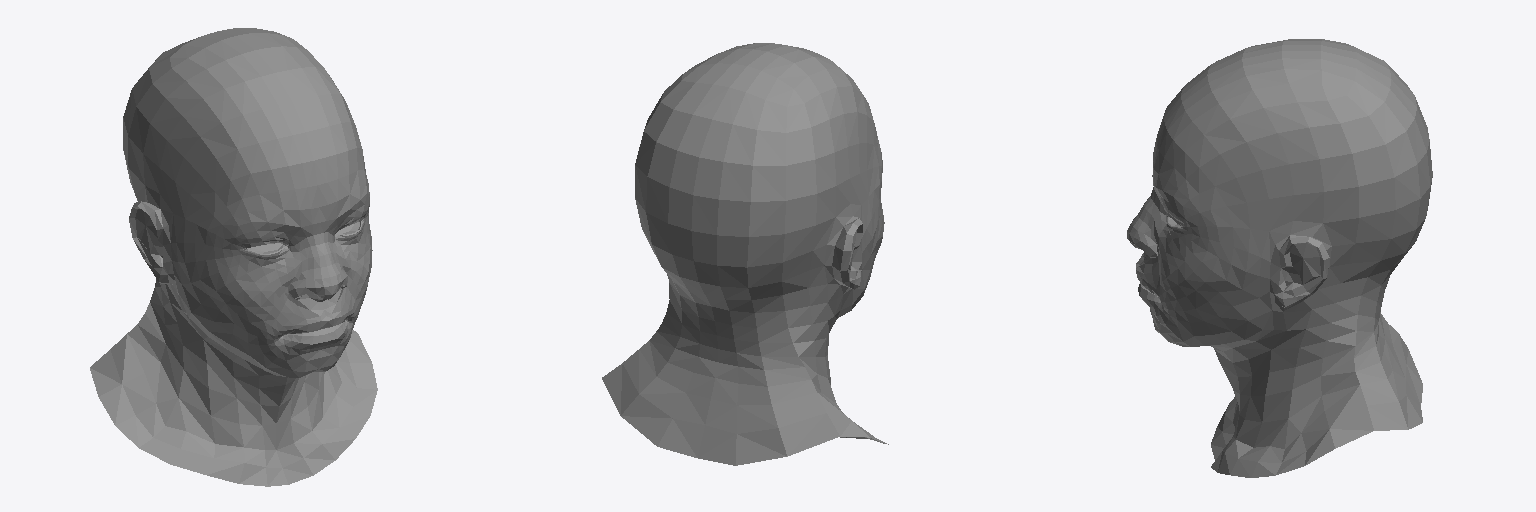
File: african_head.obj
3 views of the same model, side by side, from view 1: azimuth 30°, elevation 25°; view 2: azimuth 150°, elevation 25°; view 3: azimuth 270°, elevation 25° (orthographic).
Visible parts, largest first — view 1: head; view 2: head; view 3: head.
Boxes of the visible parts, <box> form: head: <box>90,28,377,486</box>; head: <box>602,43,888,465</box>; head: <box>1127,39,1432,477</box>.
Size of the model in its own units: 1.32 by 2 by 1.35.